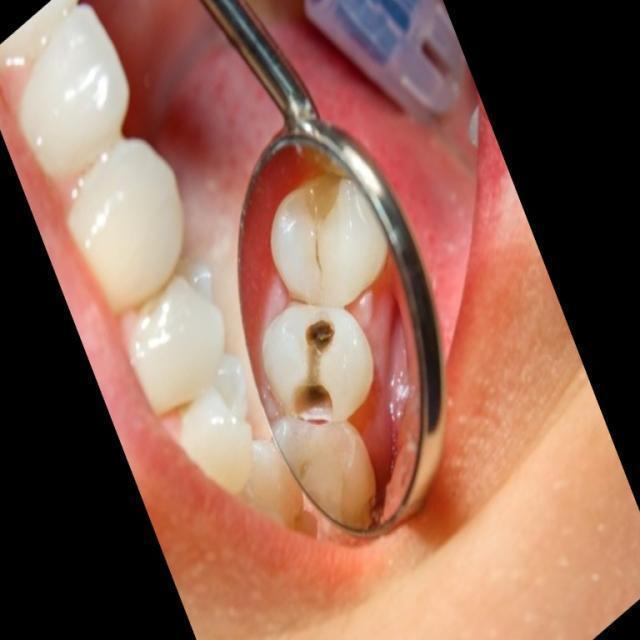Cavity: (254, 315, 378, 420), (283, 174, 374, 301), (278, 435, 391, 537)
